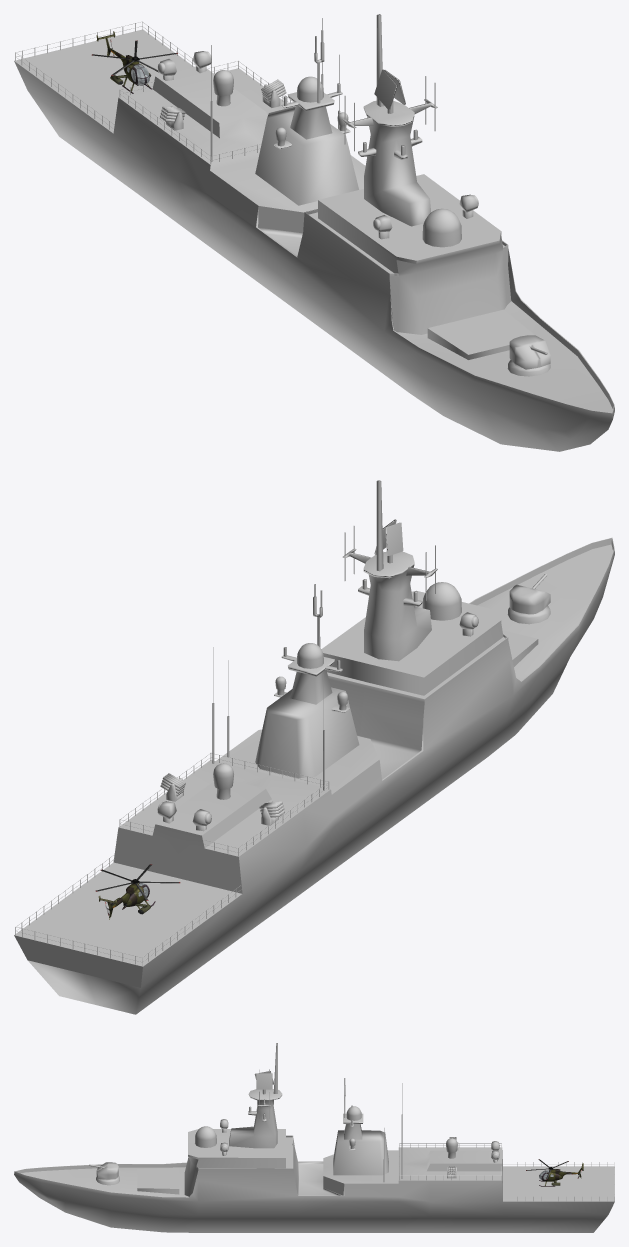
Rendered from Ship.fbx.
3 renders of one model, top to bottom at view 1: azimuth 30°, elevation 25°; view 2: azimuth 150°, elevation 25°; view 3: azimuth 270°, elevation 25°, orthographic. The views are drawn at different scales.
Visible parts, largest first — view 1: pCube35, MD_501:HelicopterShape; view 2: pCube35, MD_501:HelicopterShape; view 3: pCube35, MD_501:HelicopterShape.
Boxes of the visible parts, bbox=[...] form: pCube35: bbox=[14, 14, 614, 451]; MD_501:HelicopterShape: bbox=[91, 31, 177, 93]; pCube35: bbox=[14, 480, 614, 1014]; MD_501:HelicopterShape: bbox=[95, 864, 180, 919]; pCube35: bbox=[14, 1043, 614, 1232]; MD_501:HelicopterShape: bbox=[526, 1159, 583, 1186].
Size of the model in its own units: 20.43 by 48.15 by 147.
